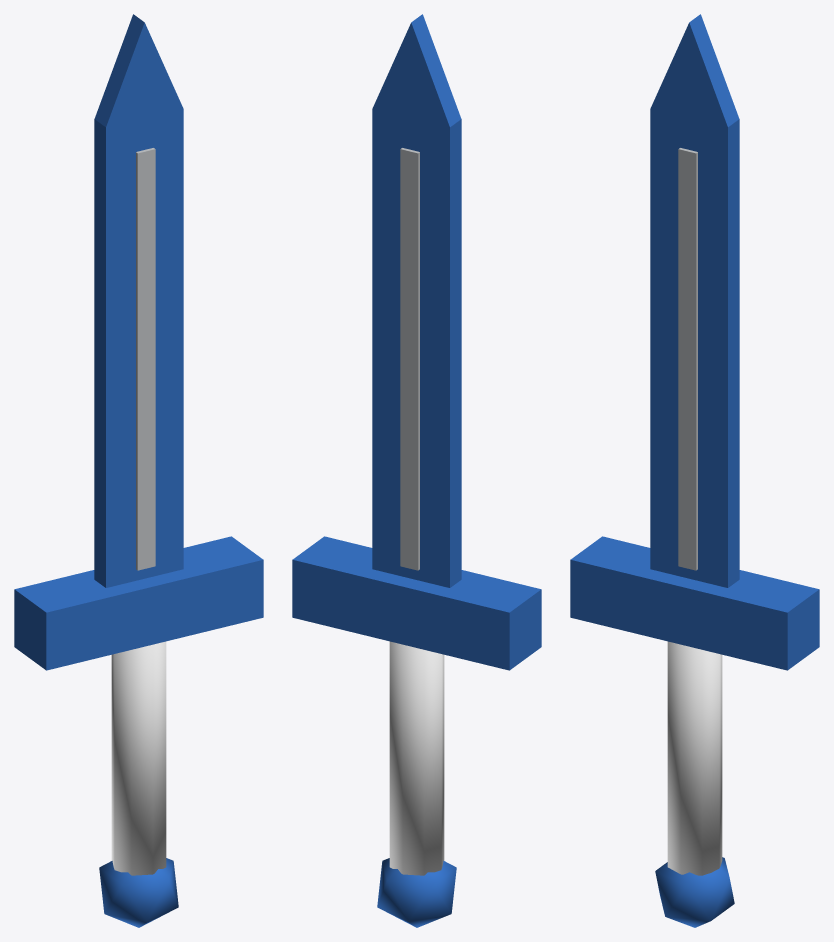
File: cobalt_shortsword.glb
The picture shows the model from 3 angles, left to right: view 1: azimuth 30°, elevation 25°; view 2: azimuth 150°, elevation 25°; view 3: azimuth 330°, elevation 25°; orthographic projection.
Visible parts, largest first — view 1: cobalt_shortsword_v0; view 2: cobalt_shortsword_v0; view 3: cobalt_shortsword_v0.
Part boxes in pixels (left/top/right/bottom): cobalt_shortsword_v0: left=14, top=14, right=263, bottom=927; cobalt_shortsword_v0: left=292, top=14, right=541, bottom=927; cobalt_shortsword_v0: left=570, top=14, right=819, bottom=927.
Size of the model in its own units: 0.196 by 0.785 by 0.0595.
